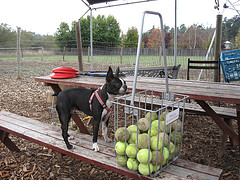tennis ball: (136, 133, 151, 150), (150, 149, 164, 166), (137, 148, 152, 163), (137, 117, 151, 132), (156, 131, 170, 146), (115, 128, 131, 141), (150, 136, 164, 150), (126, 143, 138, 159), (138, 163, 154, 175), (115, 141, 128, 155), (127, 157, 139, 171), (115, 154, 127, 167), (170, 131, 182, 144), (172, 119, 183, 132), (159, 121, 171, 132), (145, 111, 159, 120), (128, 125, 139, 135), (128, 133, 138, 144), (147, 127, 158, 137), (163, 147, 170, 162), (151, 120, 161, 130), (159, 111, 169, 120), (170, 143, 177, 155)
